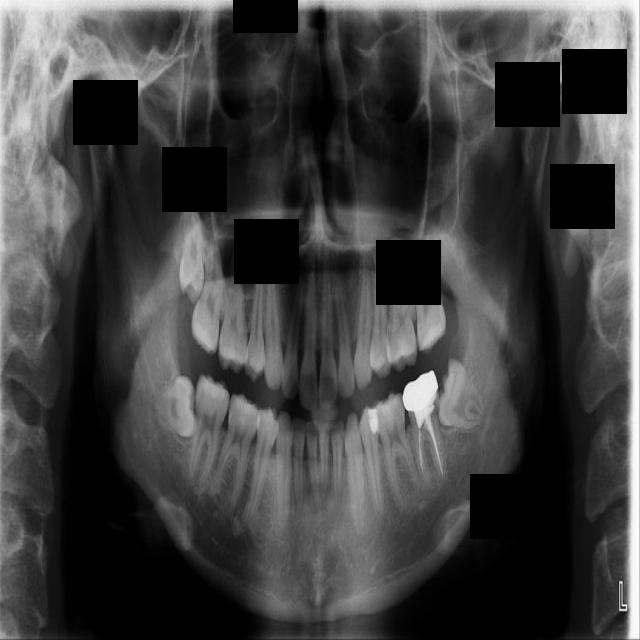3M ESPE Implant: (178, 204, 205, 302)
52: (392, 365, 450, 420), (360, 405, 379, 452)
73: (406, 406, 450, 490), (591, 562, 602, 577)
BioHorizons Implant: (410, 231, 447, 352)
Biomet 3i Implant: (434, 355, 494, 433)
Blue Sky Bio Implant: (398, 362, 449, 494)
Caries: (190, 236, 229, 354)
Implant: (178, 372, 234, 493)
Keystone Dental Implant: (149, 374, 202, 445)
